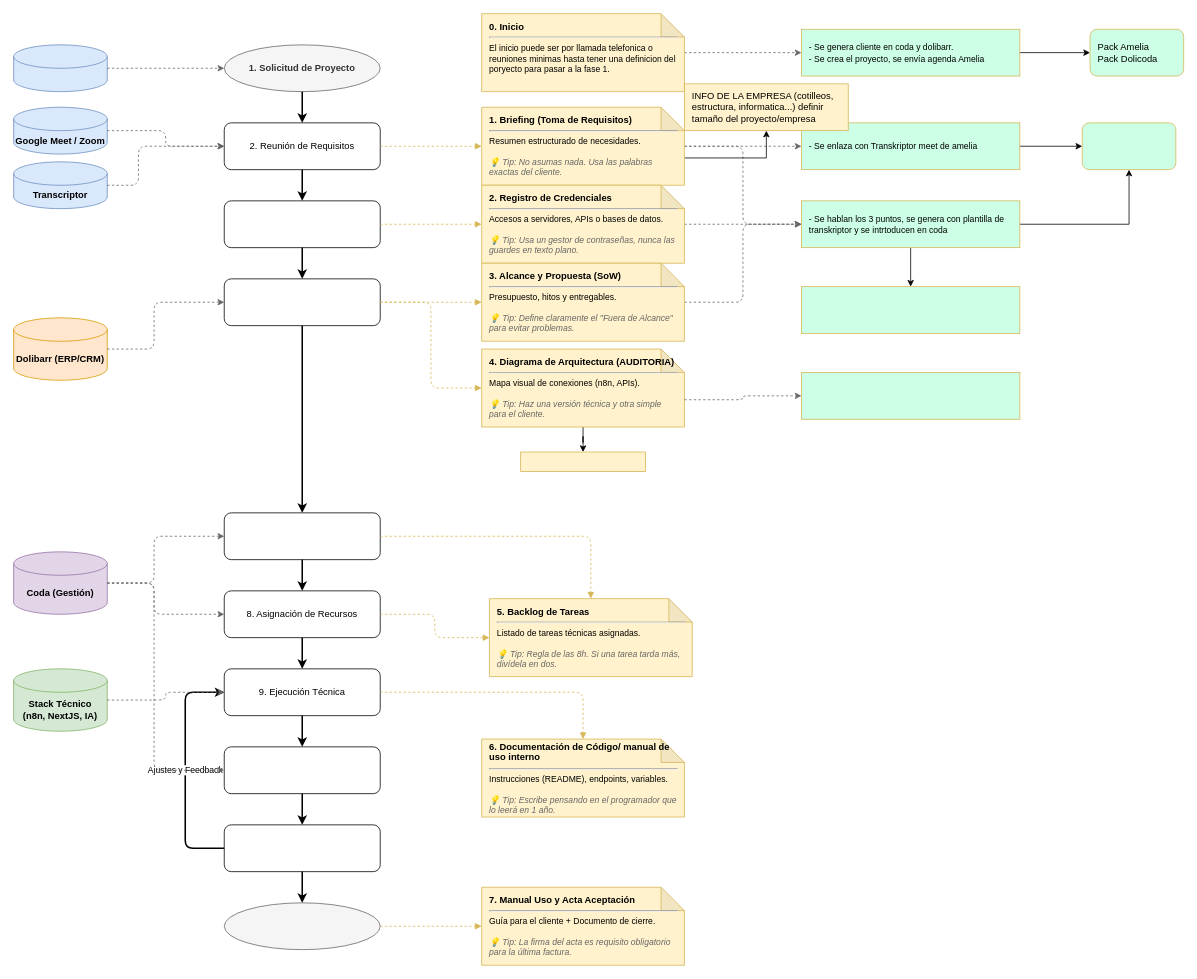
The diagram is 1197 pixels wide and 979 high, and some of its shapes have lost their labels. The centre of each missing label's shape, as x and y in pixels:
"- Draw.io" belongs at (910,395).
"- Presupuesto en DOLIBARR - Creación de subporyectos/hitos" belongs at (910,309).
"10. Monitorización Interna" belongs at (301,770).
"11. Revisiones con Cliente" belongs at (301,848).
"12. Entrega Final y Cierre" belongs at (301,926).
"3. Recepción de Información" belongs at (301,224).
"4. Elaboración de Propuesta (Aprobación y 1er Pago)" belongs at (301,302).
"7. Estructuración del Proyecto" belongs at (301,536).
"Amelia" belongs at (60,68).
"facturable si es complejo" belongs at (582,461).
"Pack transcriptor" belongs at (1128,146).
